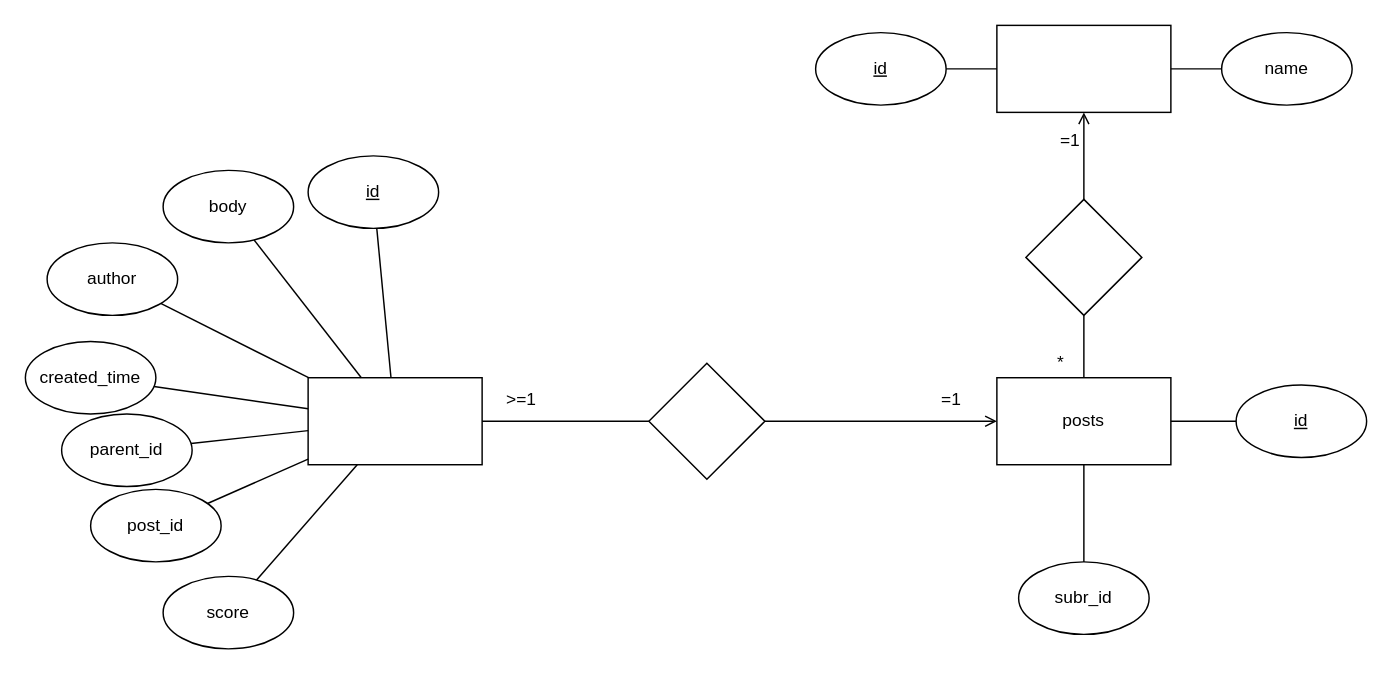
The diagram is 1392 pixels wide and 674 high, and some of its shapes have lost their labels. Each missing label, with the centre of its shape:
"belongs to" goes at pixel 706 420.
"comments" goes at pixel 394 420.
"subreddits" goes at pixel 1083 68.
"within" goes at pixel 1083 256.
